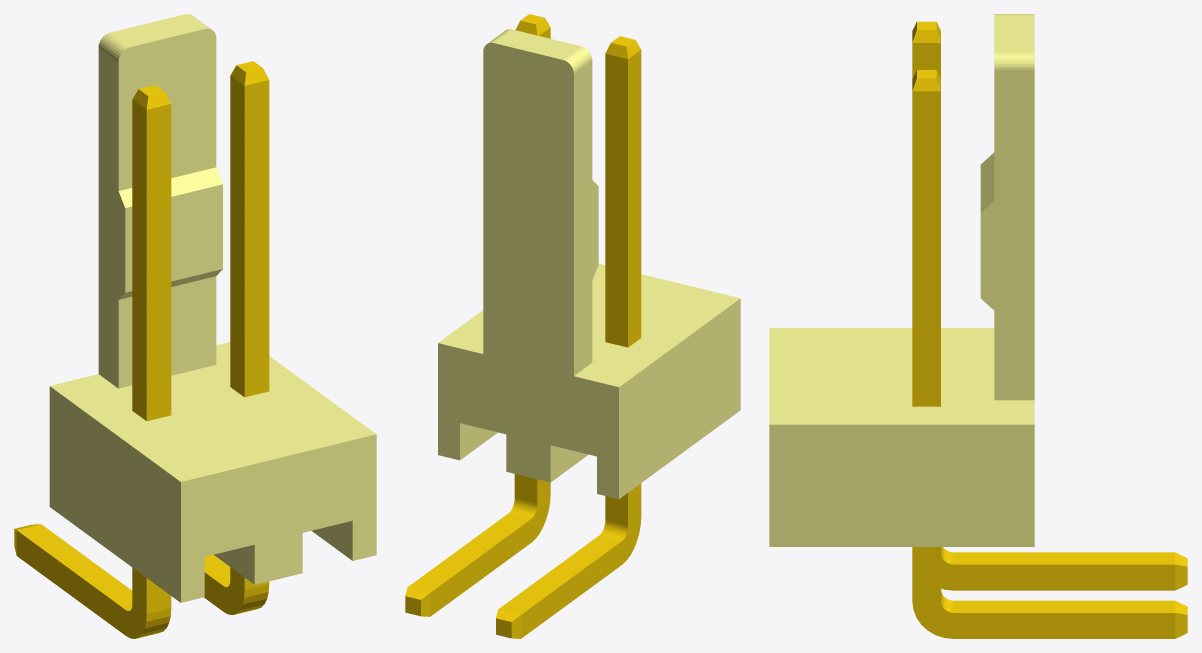
Rendered from DS1070-2MR (WF-2RA CONNFLY).obj.
The picture shows the model from 3 angles, left to right: view 1: azimuth 30°, elevation 25°; view 2: azimuth 150°, elevation 25°; view 3: azimuth 270°, elevation 25°; orthographic projection. The views are drawn at different scales.
Parts seen in each view (by area): view 1: DS1070-2MR_(WF-2RA_CONNFLY); view 2: DS1070-2MR_(WF-2RA_CONNFLY); view 3: DS1070-2MR_(WF-2RA_CONNFLY).
Boxes of the visible parts, x1,y1,x2,y2 form: DS1070-2MR_(WF-2RA_CONNFLY): (14, 14, 376, 638); DS1070-2MR_(WF-2RA_CONNFLY): (405, 14, 740, 638); DS1070-2MR_(WF-2RA_CONNFLY): (769, 14, 1187, 638).
Size of the model in its own units: 0.00411 by 0.0114 by 0.00752.
